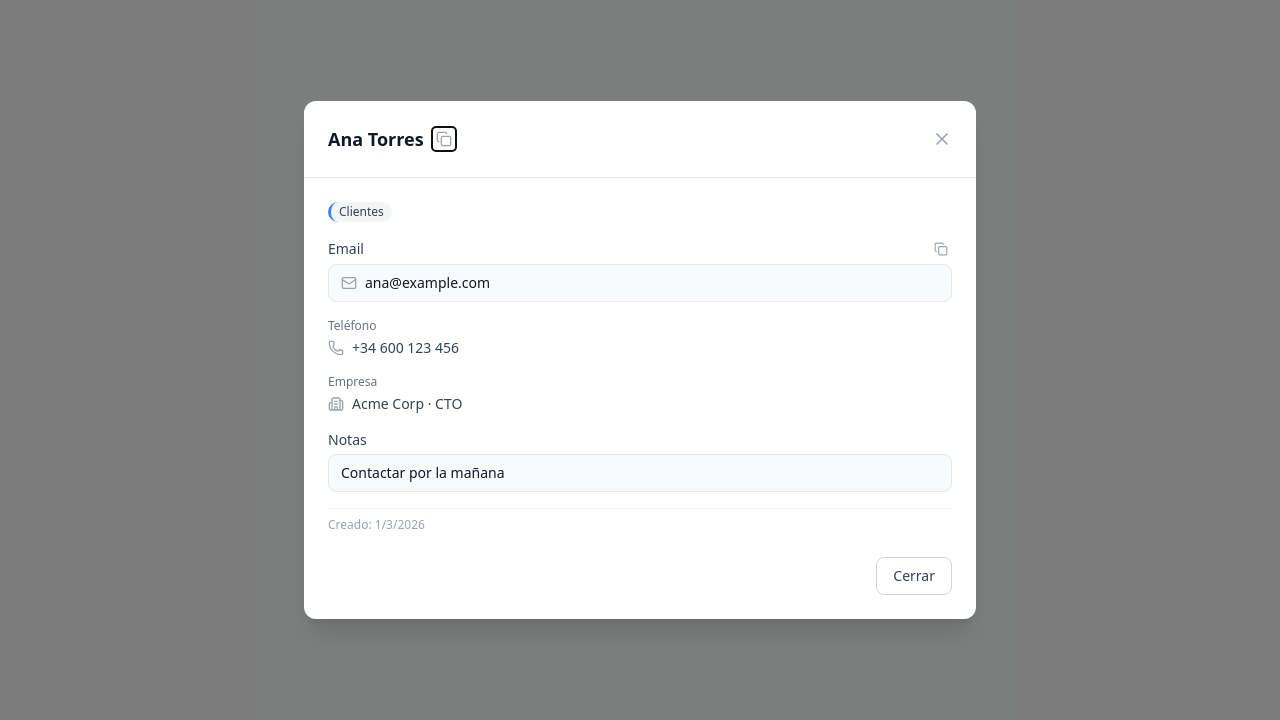
Test: ContactViewModal › copia el email de forma independiente del nombre
The width and height of the screenshot is (1280, 720).
Click the button named "Copiar email" at (941, 249), box [930, 238, 952, 260]
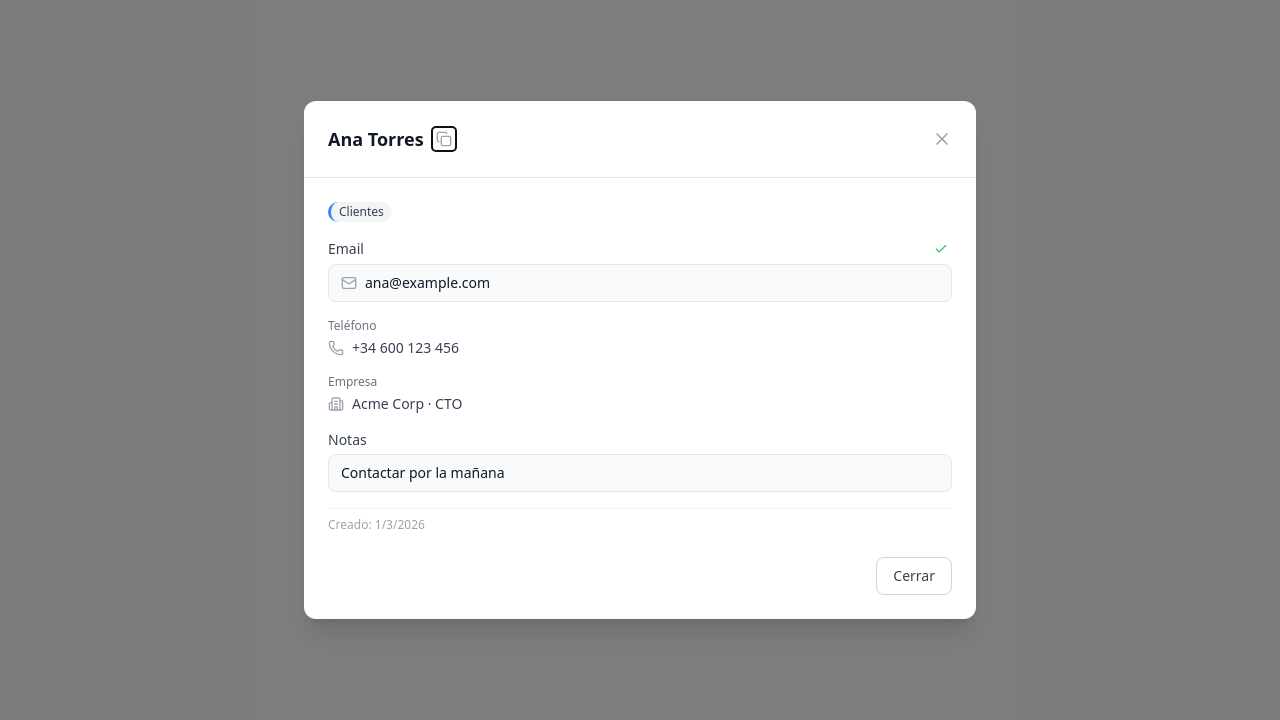
Check: the icon in the row of "Email" is shown, box [934, 242, 948, 256]
